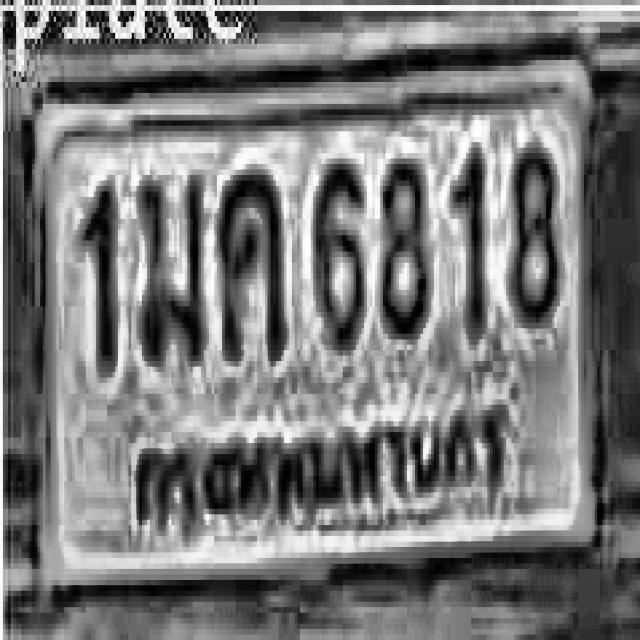license-plate: (22, 83, 627, 612)
